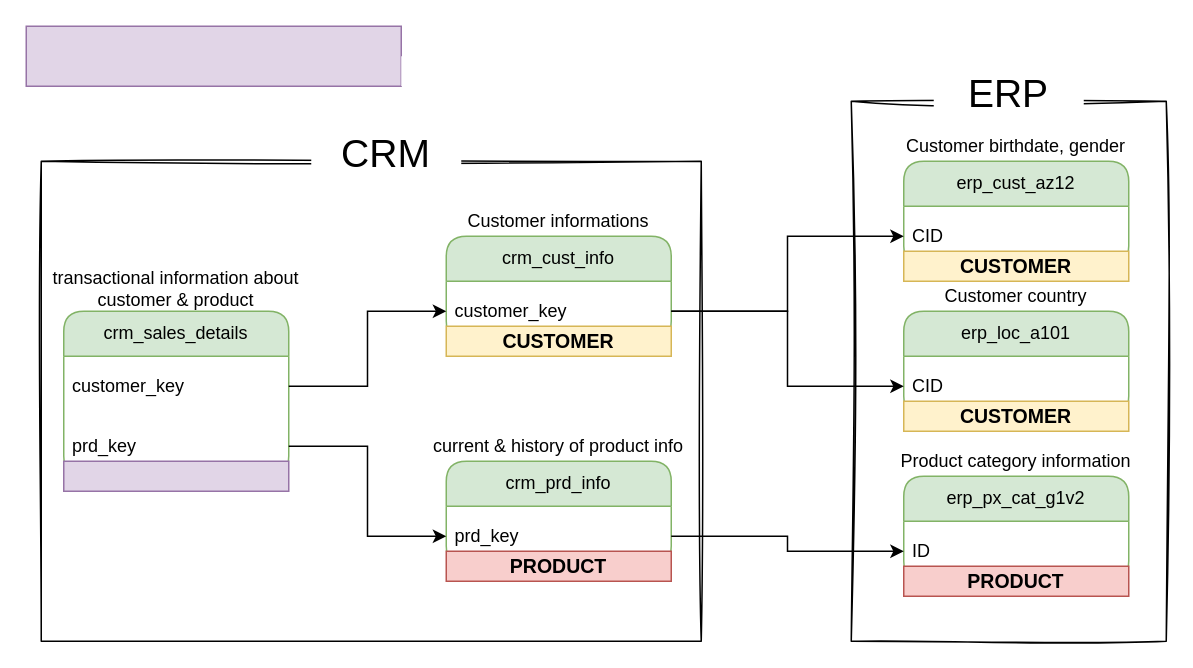
Some shapes in this 1193 by 668 pixel diagram are drawn without their labels. Each missing label, with the centre of its shape:
How to Tables are related: the point at 513,71
Integration Model: the point at 213,55
SALES: the point at 175,475
